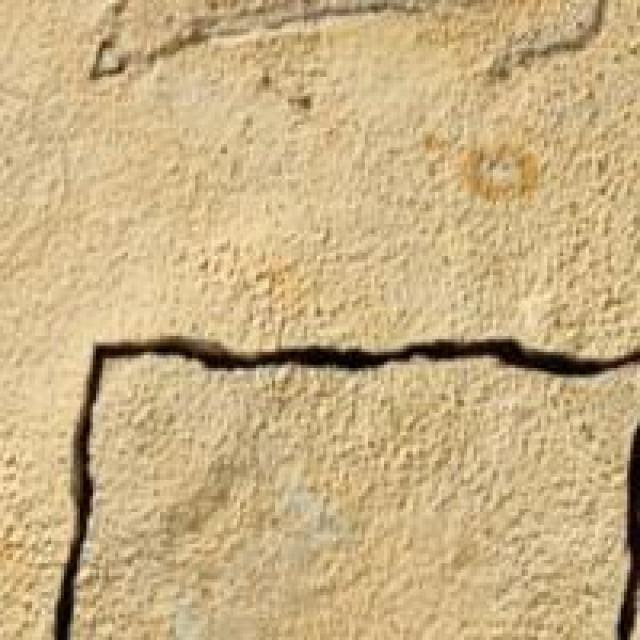Crack: (26, 307, 636, 637)
